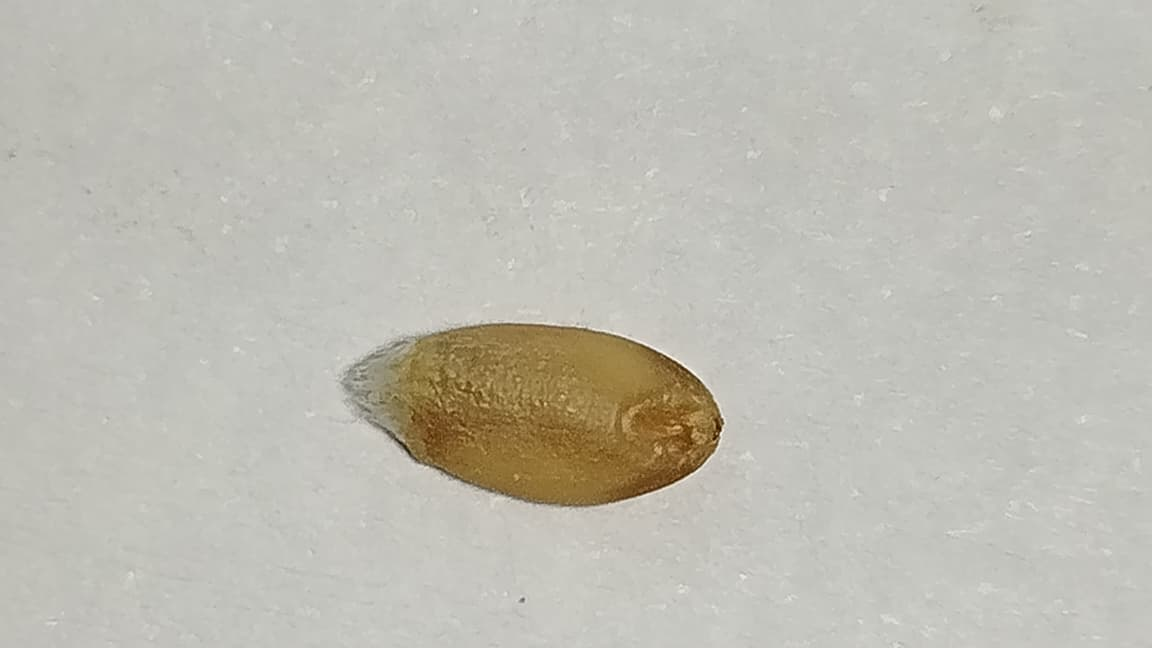healthy: (374, 323, 722, 501)
